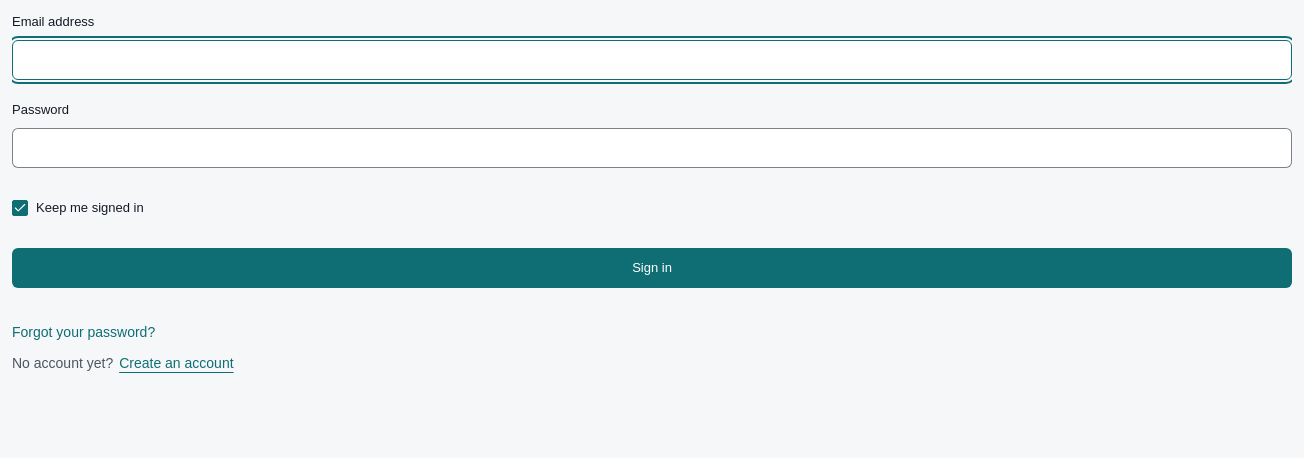
Scenario: SignInForm (UI-001) › renders one message for INVALID_EMAIL_OR_PASSWORD that names neither field
The image size is (1304, 458).
In the field labelled "Email address": [652, 60] box [12,40,1292,80], type "lena@example.edu"
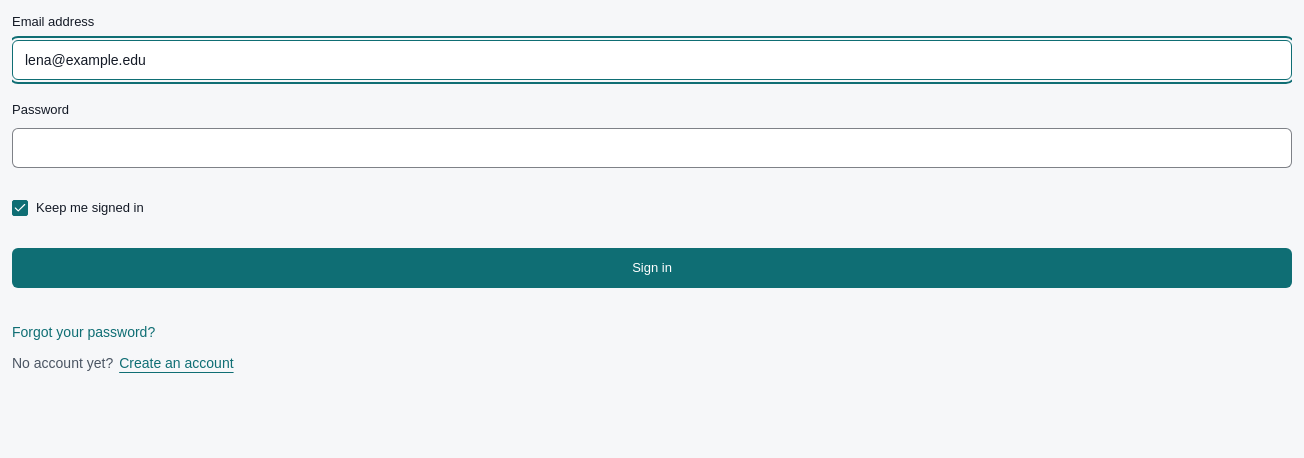
In the password field labelled "Password": [652, 148] box [12,128,1292,168], type "a-long-password"
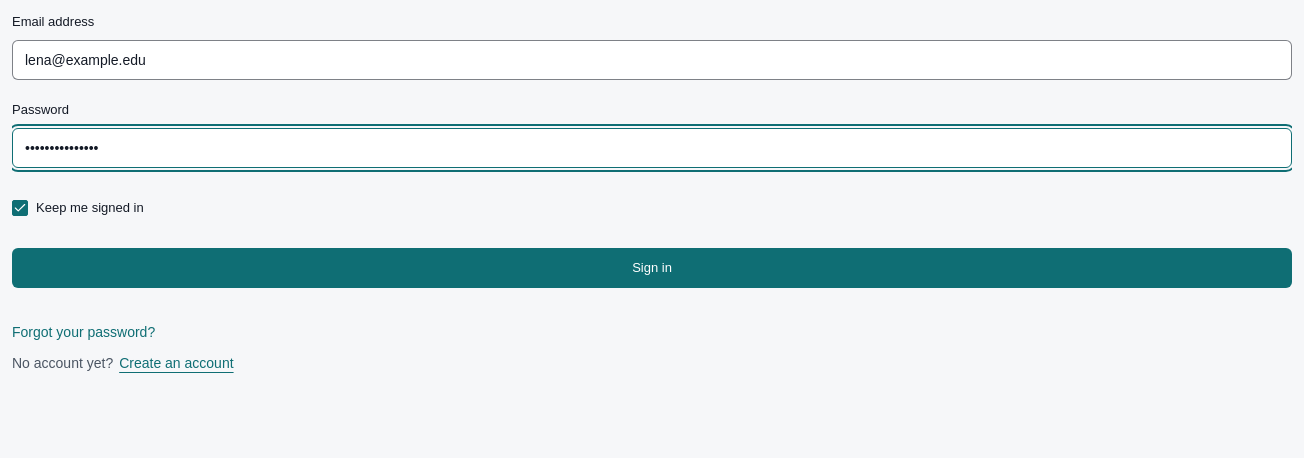
Click the button "Sign in": [652, 268] box [12,248,1292,288]
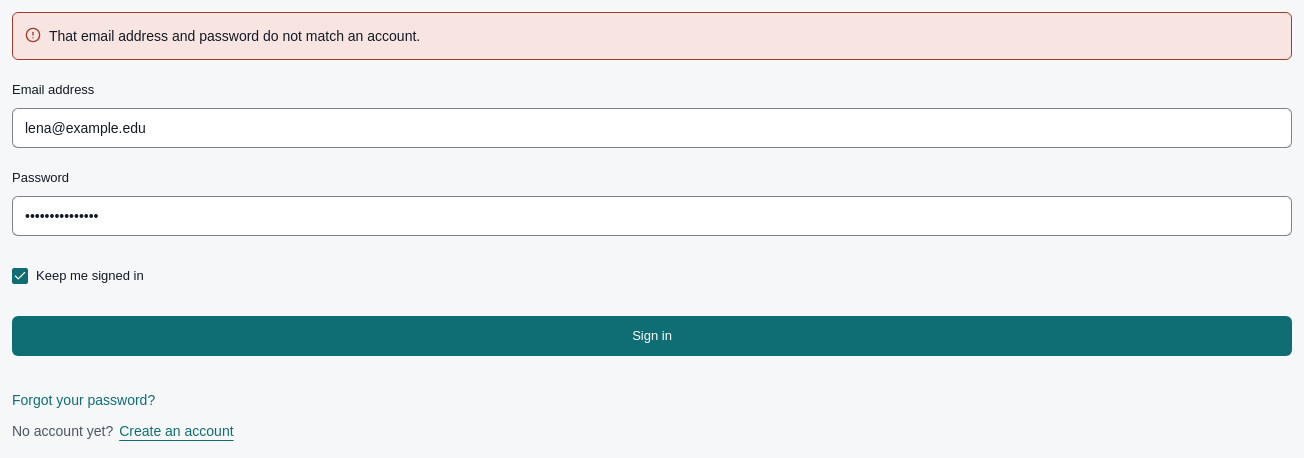
Check: the message reads "That email address and password do not match an account.", box [49,28,420,44]
